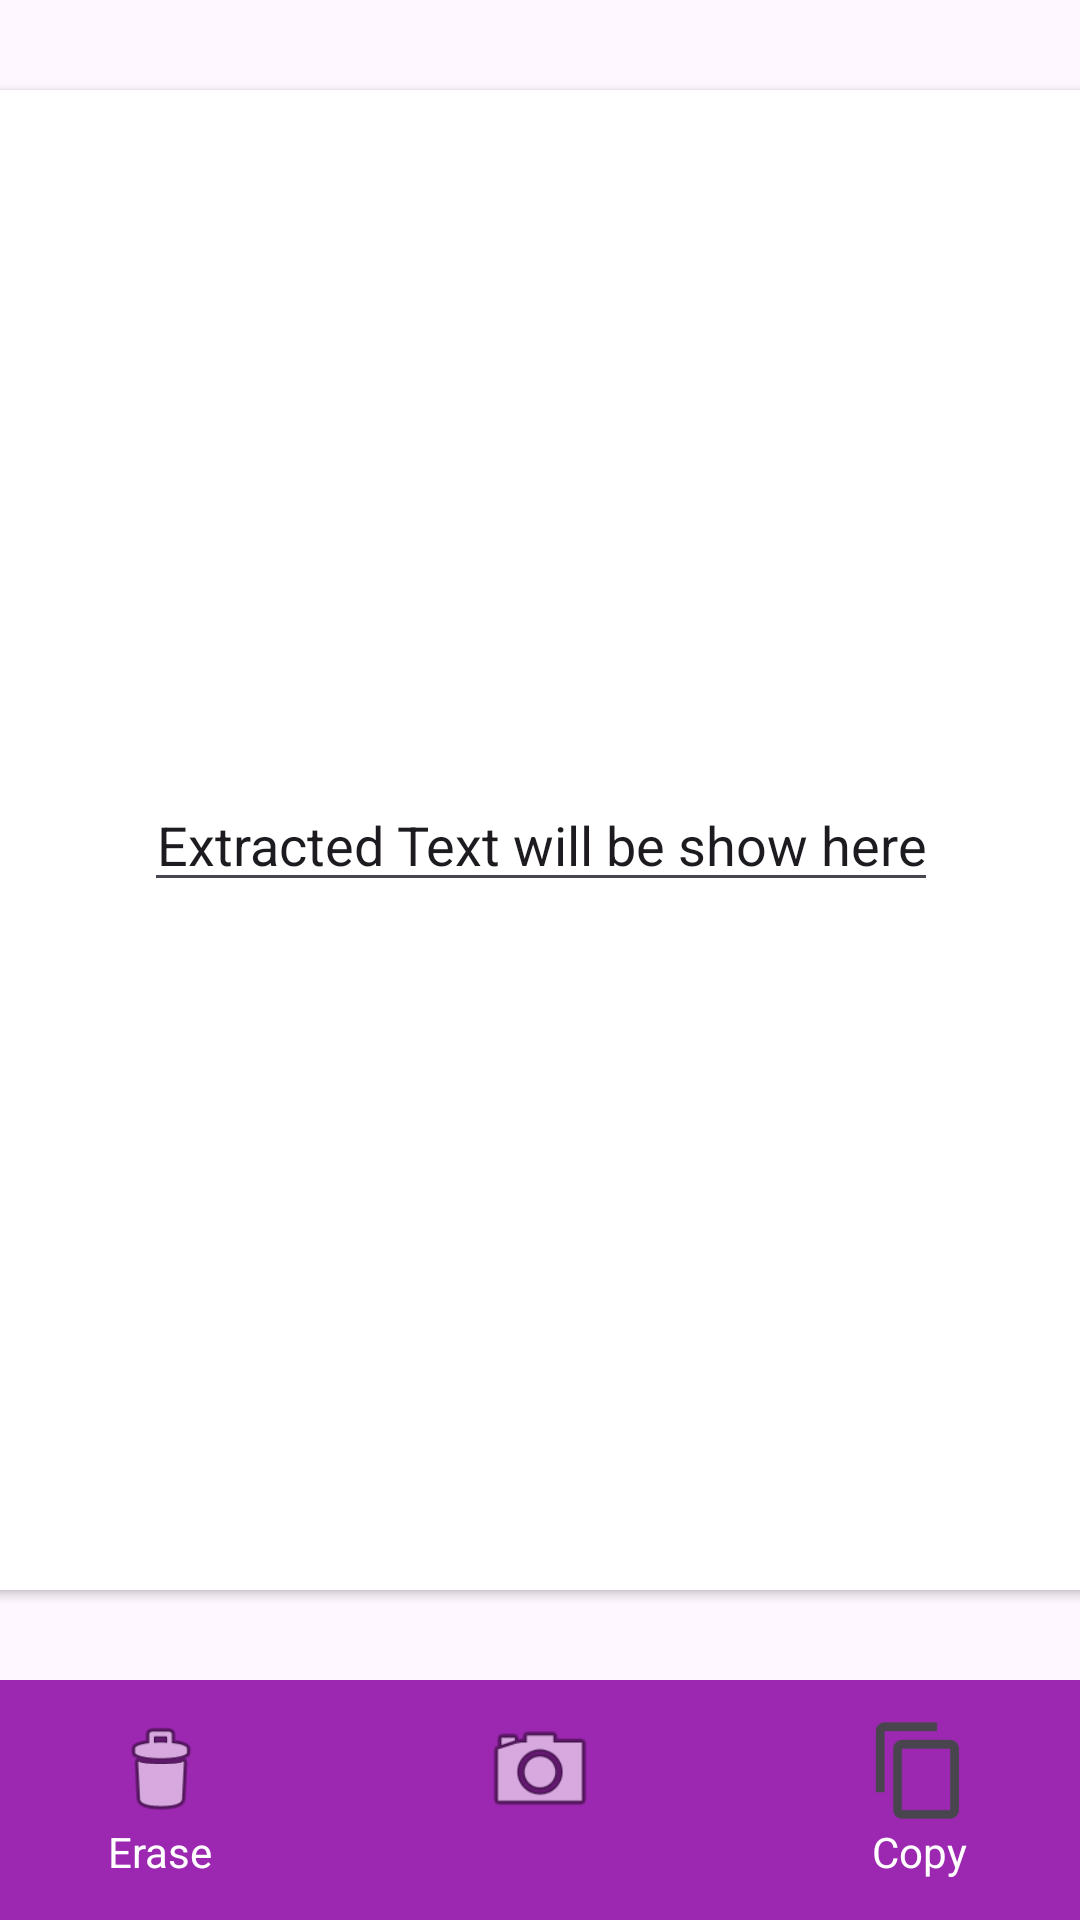

Icons on this 1080px x 1920px Android screen, each with the point to tap as (x,y):
camera: (540,1768)
